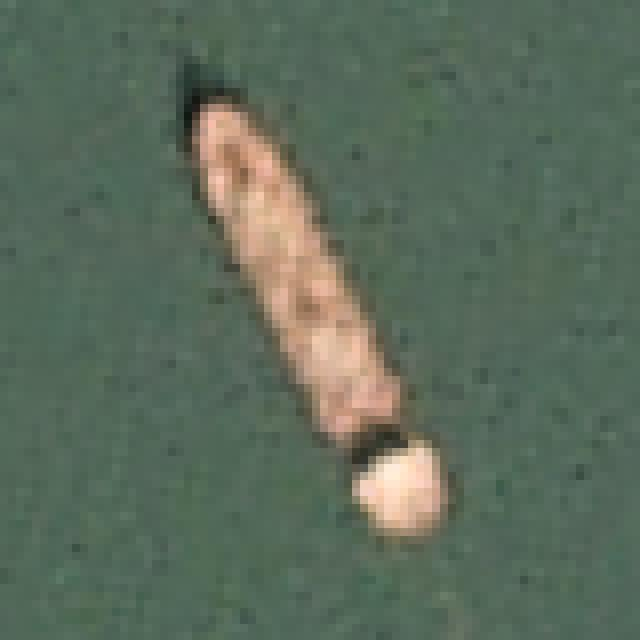ship: (150, 67, 478, 542)
